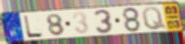3: (93, 8, 114, 34), (72, 11, 90, 35)
8: (121, 7, 142, 33), (45, 13, 67, 36)
L: (23, 14, 46, 39)
Q: (141, 6, 168, 31)
